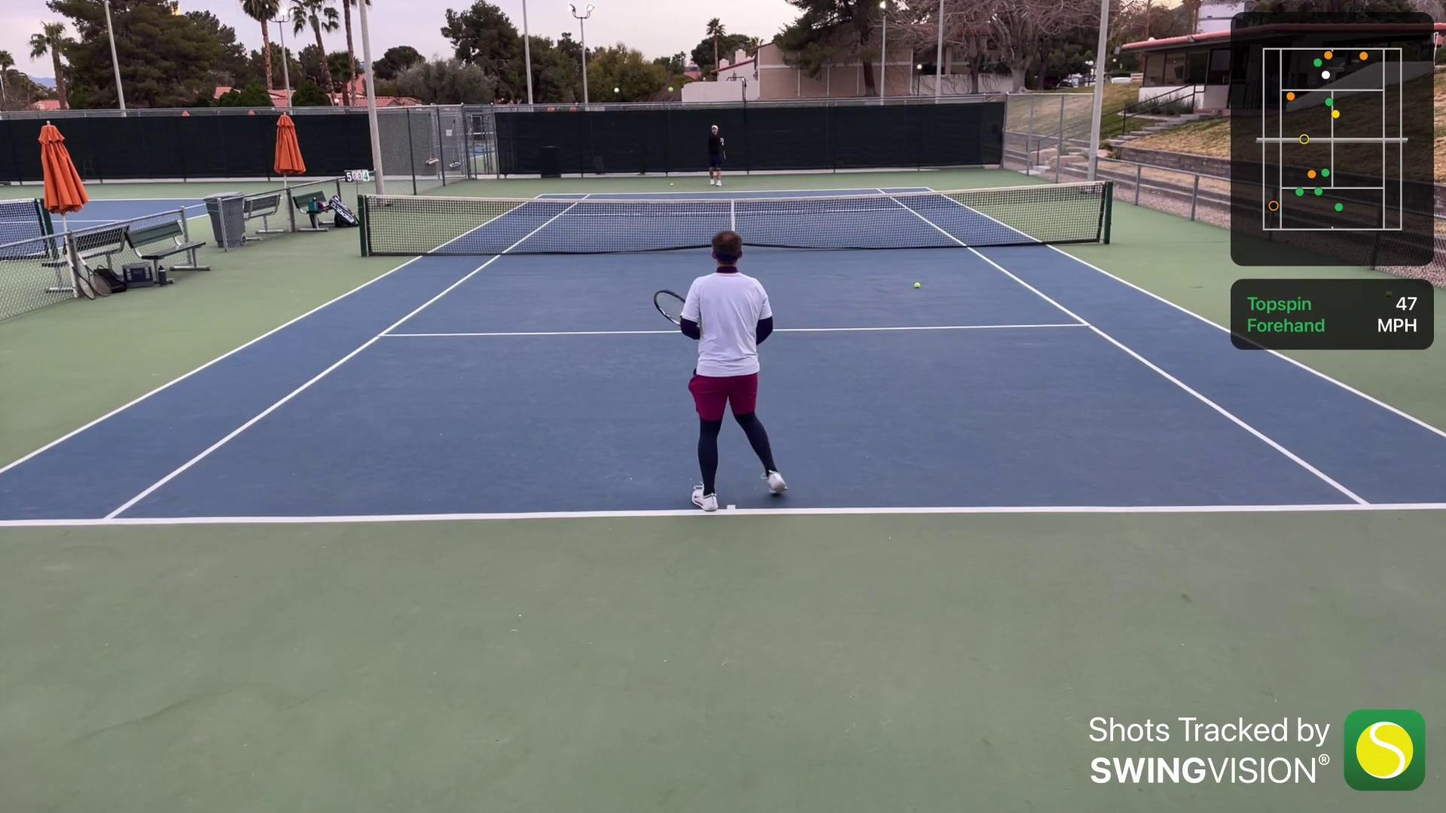ball: (910, 279, 921, 292), (665, 85, 677, 96), (667, 181, 675, 189)
